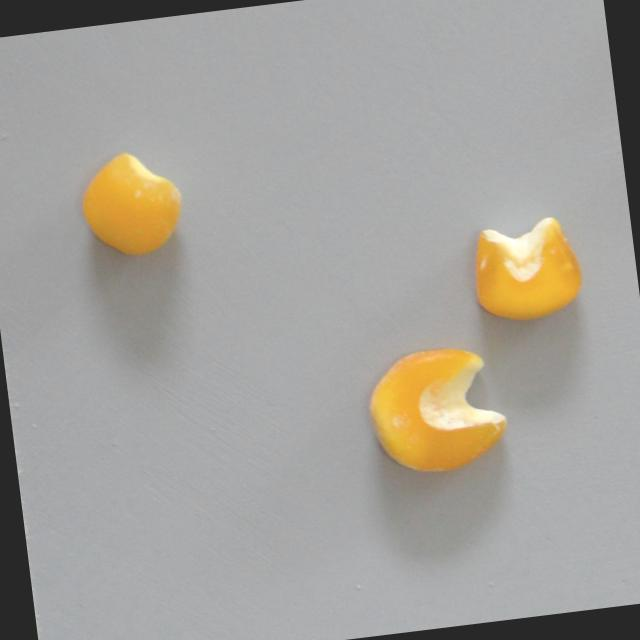no_canjicado: (363, 340, 512, 483), (466, 213, 588, 326), (73, 148, 189, 263)
